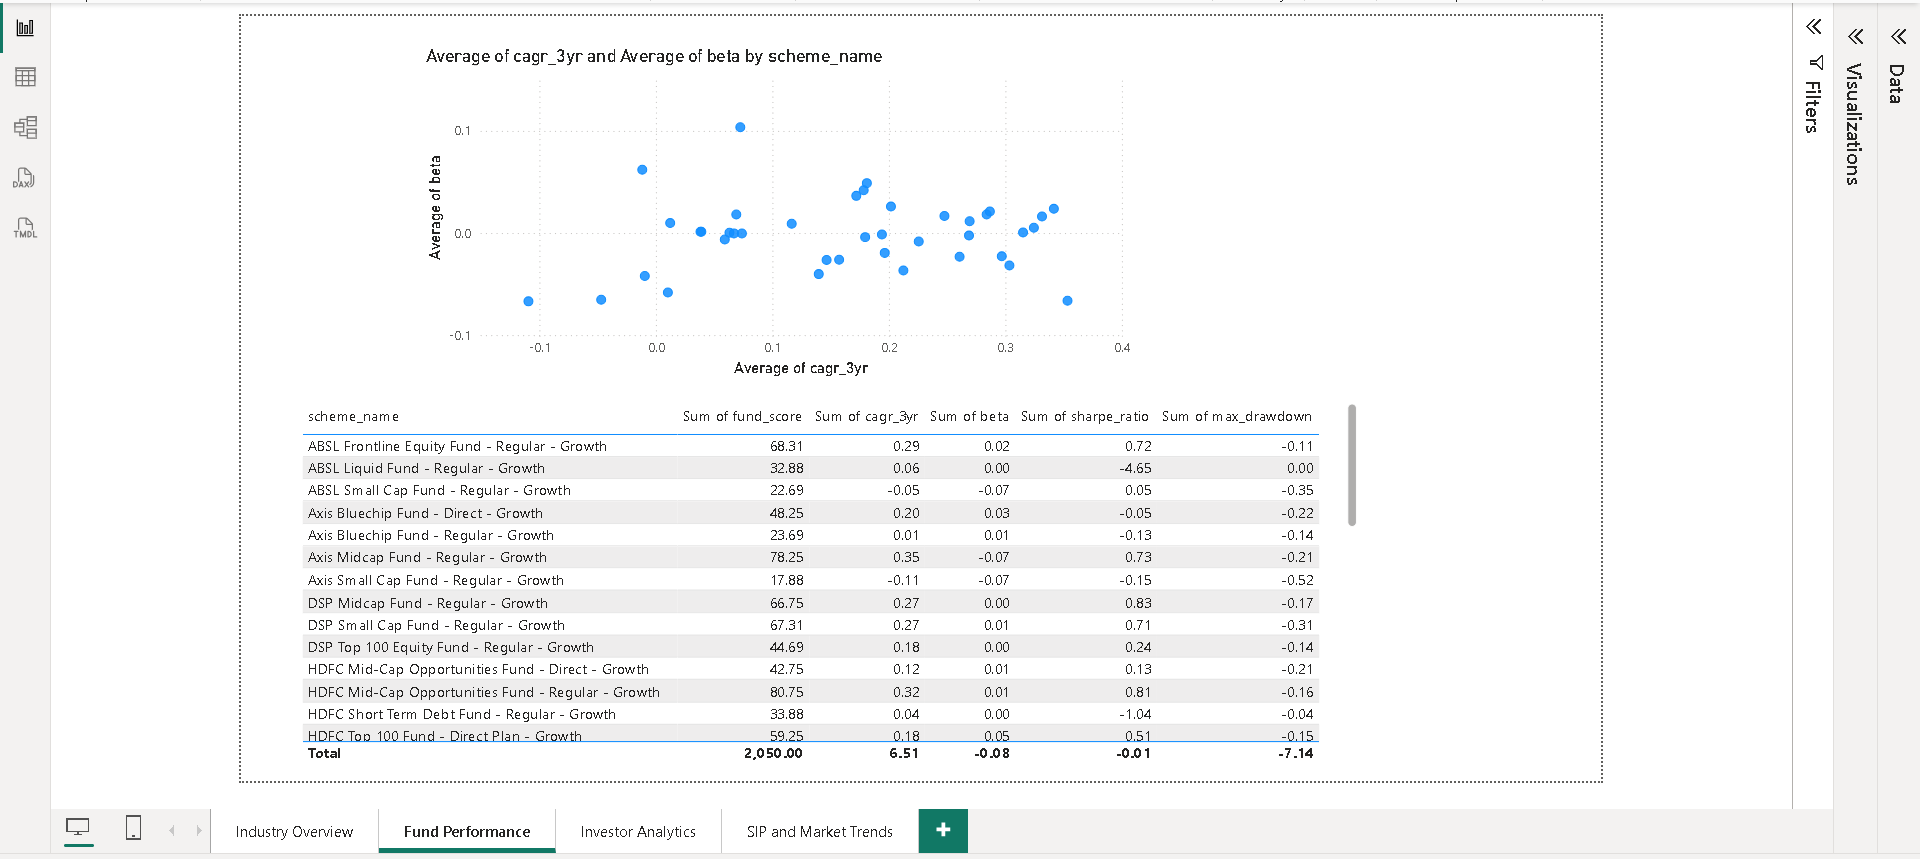

The page's visual inventory and layout, read from the dashboard file:
{"tool":"powerbi","page":{"name":"Fund Performance","canvas":[1280,720],"ordinal":1},"visuals":[{"type":"scatterChart","fields":{"X":["Avg(fund_scorecard.cagr_3yr)"],"Y":["Avg(fund_scorecard.beta)"],"Category":["fund_scorecard.scheme_name"]},"box":[169.1,27.2,672.8,317.3],"z":0},{"type":"tableEx","fields":{"Values":["fund_scorecard.scheme_name","Sum(fund_scorecard.fund_score)","Sum(fund_scorecard.cagr_3yr)","Sum(fund_scorecard.beta)","Sum(fund_scorecard.sharpe_ratio)","Sum(fund_scorecard.max_drawdown)"]},"box":[51.9,360.5,1003.7,348.1],"z":1000}]}

Visuals, with their boxes on the page's 1280x720 design canvas (x1, y1, x2, y2). These are canvas units, not pixel positions in the 1920x859 screenshot, which may show the page scaled, cropped or inside an application window:
scatterChart - Avg(fund_scorecard.cagr_3yr) x Avg(fund_scorecard.beta): box(169, 27, 842, 344)
tableEx - fund_scorecard.scheme_name x Sum(fund_scorecard.fund_score): box(52, 360, 1056, 709)
